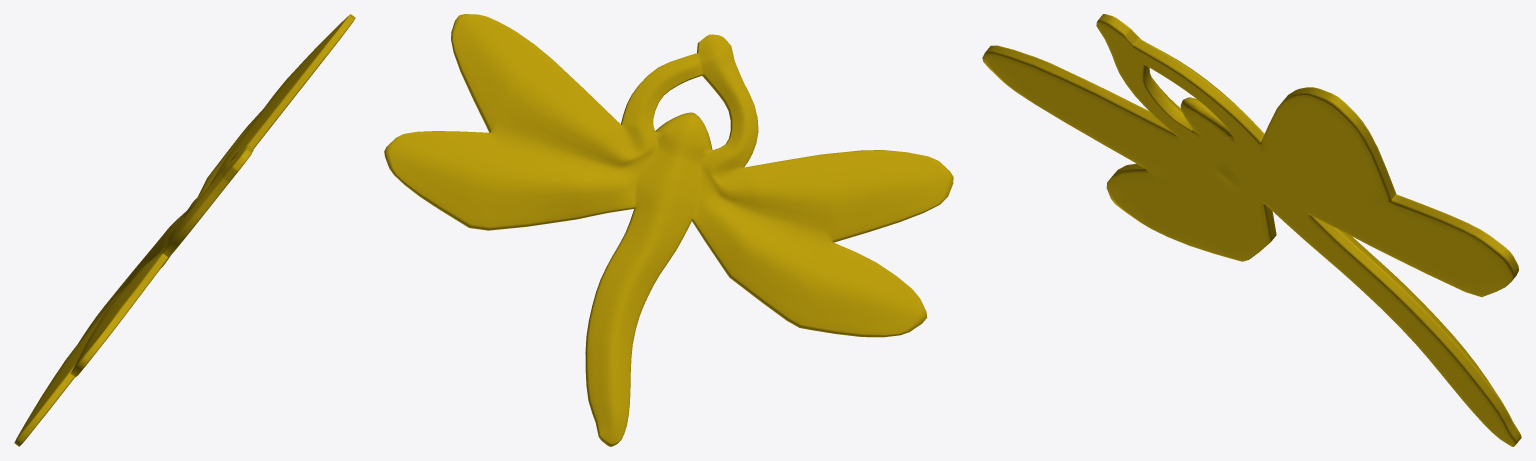
Rendered from ButterFly.fbx.
The picture shows the model from 3 angles, left to right: view 1: azimuth 30°, elevation 25°; view 2: azimuth 150°, elevation 25°; view 3: azimuth 270°, elevation 25°; orthographic projection. The views are drawn at different scales.
Visible parts, largest first — view 1: Hairpin; view 2: Hairpin; view 3: Hairpin.
Boxes of the visible parts, x1,y1,x2,y2 form: Hairpin: [14, 14, 355, 446]; Hairpin: [384, 14, 953, 446]; Hairpin: [982, 14, 1521, 446].
Size of the model in its own units: 257 by 201 by 195.
